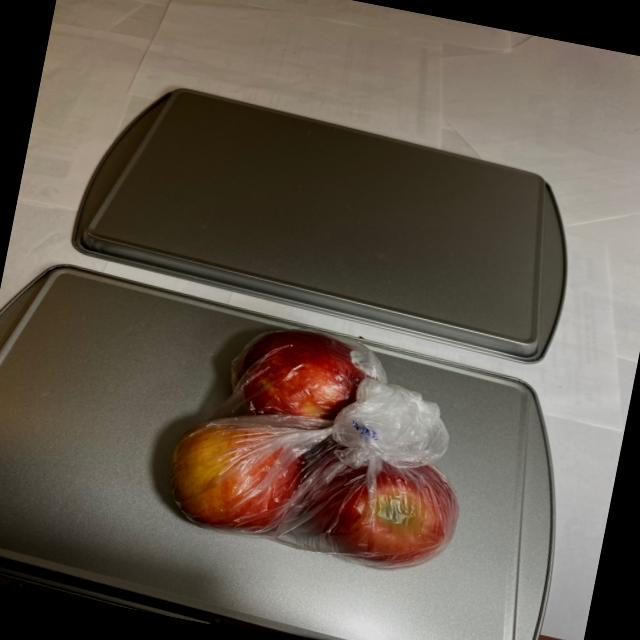apple: (146, 305, 486, 585)
